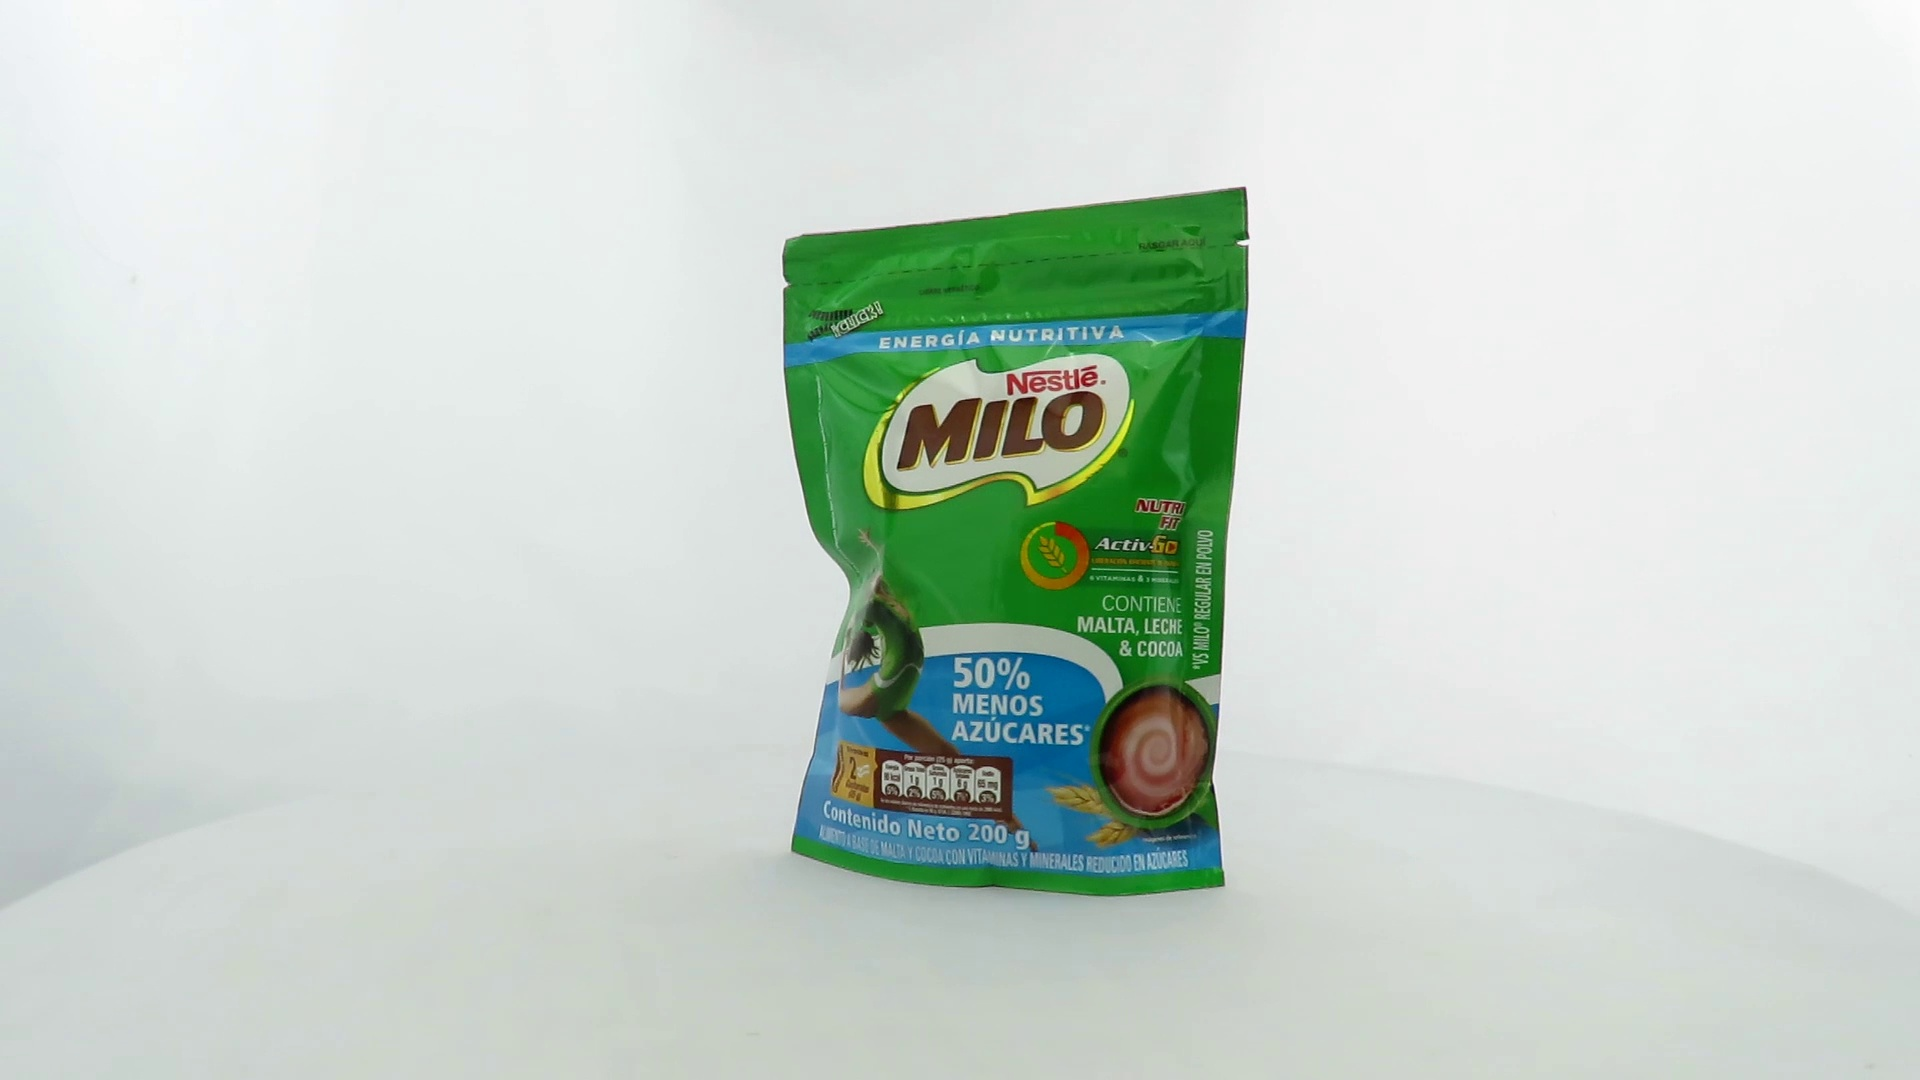COL0170205DYP20000: (777, 181, 1255, 903)
